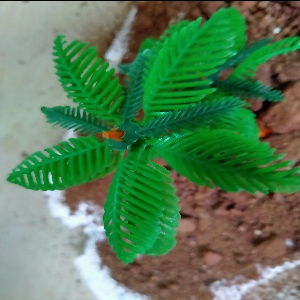plant: (11, 30, 295, 264)
